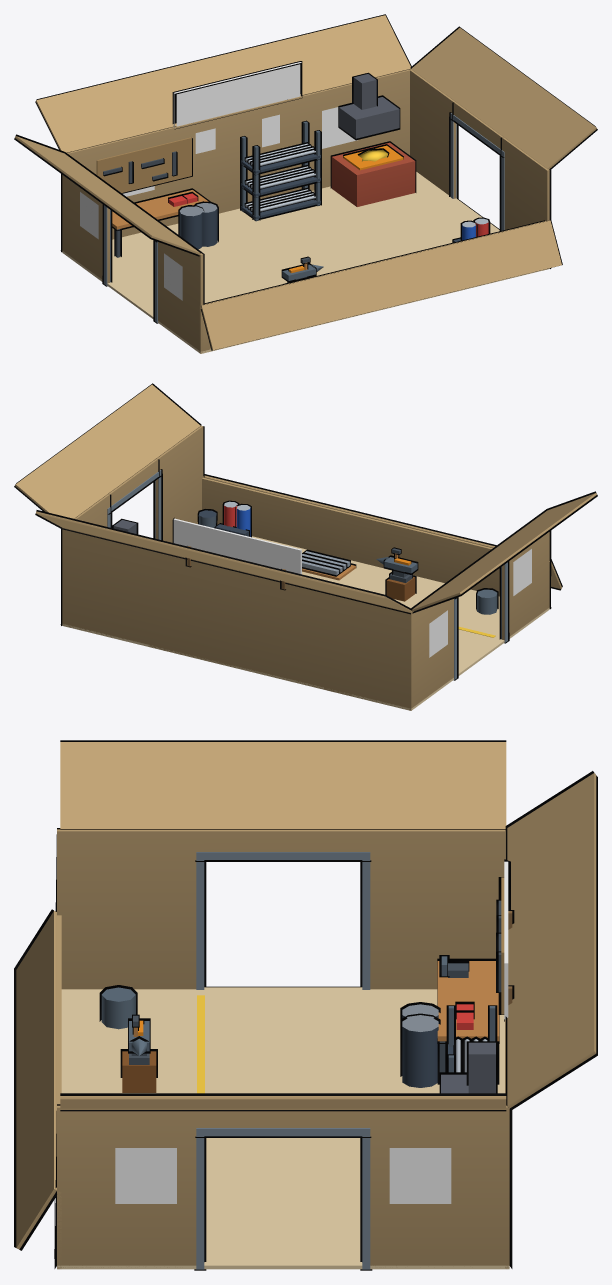
Rendered from BR_Box_Schlosserei.glb.
3 renders of one model, top to bottom at view 1: azimuth 30°, elevation 25°; view 2: azimuth 150°, elevation 25°; view 3: azimuth 270°, elevation 25°, orthographic. The views are drawn at different scales.
Parts seen in each view (by area): view 1: BR_Box_Schlosserei_Mesh, BR_Box_Schlosserei_Outline; view 2: BR_Box_Schlosserei_Mesh, BR_Box_Schlosserei_Outline; view 3: BR_Box_Schlosserei_Mesh, BR_Box_Schlosserei_Outline.
Boxes of the visible parts, bbox=[...] form: BR_Box_Schlosserei_Mesh: bbox=[15, 15, 596, 353]; BR_Box_Schlosserei_Outline: bbox=[14, 14, 597, 350]; BR_Box_Schlosserei_Mesh: bbox=[15, 384, 596, 710]; BR_Box_Schlosserei_Outline: bbox=[14, 383, 597, 680]; BR_Box_Schlosserei_Mesh: bbox=[16, 742, 596, 1269]; BR_Box_Schlosserei_Outline: bbox=[14, 740, 597, 1270].
Bounding box in the file's own units: 12.31 × 3.58 × 8.52.
